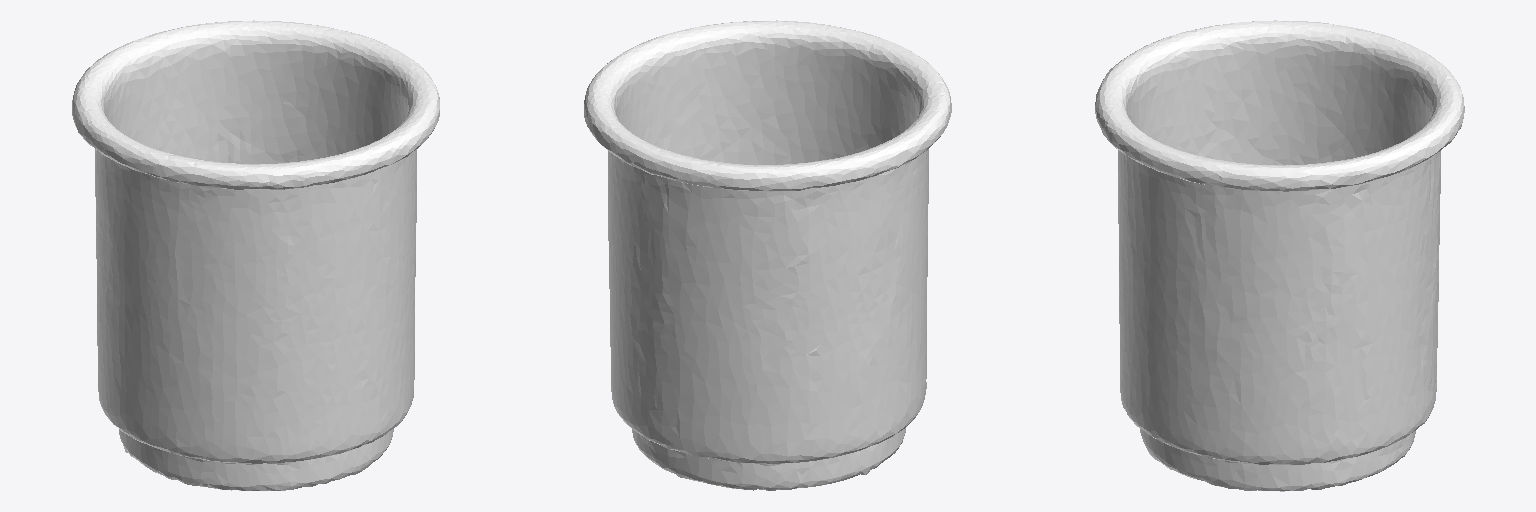
robot.urdf — c_cups:
<robot name="c_cups">
    <link name="base_link">
        <visual>
            <origin xyz="0.0 -0.0 0.0" rpy="0.0 0.0 0.0" />
            <geometry>
                <mesh filename="c_cups/textured.obj" scale="1 1 1" />
            </geometry>
            <material name="texture">
                <color rgba="1.0 1.0 1.0 1.0" />
            </material>
        </visual>
        <collision>
            <origin xyz="0.0 -0.0 0.0" rpy="0.0 0.0 0.0" />
            <geometry>
                <mesh filename="c_cups/textured_coacd_0.stl" scale="1 1 1" />
            </geometry>
        </collision>
        <collision>
            <origin xyz="0.0 -0.0 0.0" rpy="0.0 0.0 0.0" />
            <geometry>
                <mesh filename="c_cups/textured_coacd_1.stl" scale="1 1 1" />
            </geometry>
        </collision>
        <collision>
            <origin xyz="0.0 -0.0 0.0" rpy="0.0 0.0 0.0" />
            <geometry>
                <mesh filename="c_cups/textured_coacd_2.stl" scale="1 1 1" />
            </geometry>
        </collision>
        <collision>
            <origin xyz="0.0 -0.0 0.0" rpy="0.0 0.0 0.0" />
            <geometry>
                <mesh filename="c_cups/textured_coacd_3.stl" scale="1 1 1" />
            </geometry>
        </collision>
        <collision>
            <origin xyz="0.0 -0.0 0.0" rpy="0.0 0.0 0.0" />
            <geometry>
                <mesh filename="c_cups/textured_coacd_4.stl" scale="1 1 1" />
            </geometry>
        </collision>
        <inertial>
            <mass value="0.017" />
            <inertia ixx="1e-3" ixy="0.0" ixz="0.0" iyy="1e-3" iyz="0.0" izz="1e-3" />
        </inertial>
    </link>
</robot>

--- What the picture shows (computed from the rendered views, not written in the file) ---
The picture shows the robot from 3 angles, left to right: view 1: azimuth 30°, elevation 25°; view 2: azimuth 150°, elevation 25°; view 3: azimuth 270°, elevation 25°; orthographic projection.
Model c_cups with 1 links and 0 joints (none), rooted at base_link, posed every joint at zero.
Links seen in each view (by area): view 1: base_link; view 2: base_link; view 3: base_link.
Link boxes in pixels (x1,y1,x2,y2): base_link: (72, 20, 439, 490); base_link: (584, 20, 951, 490); base_link: (1095, 20, 1464, 491).
Bounding box of the posed robot: 0.0648 × 0.065 × 0.0665 m (x, y, z).
Meshes: 1 distinct files referenced, 1 mesh visuals loaded (1 OBJ).